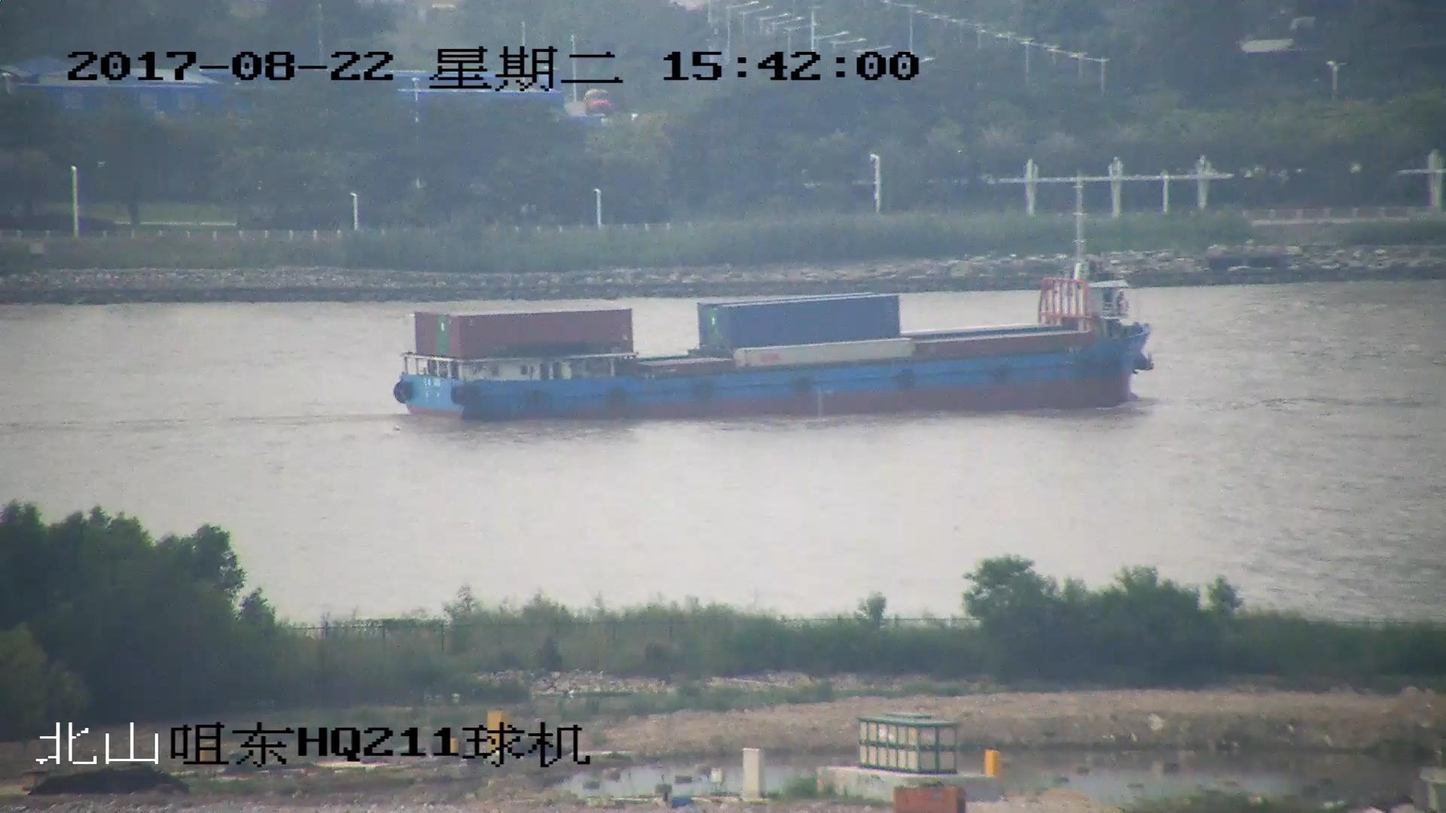container ship: (400, 195, 1157, 416)
